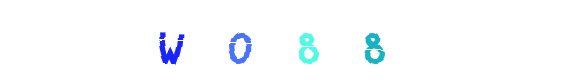8: (250, 0, 330, 80), (302, 0, 382, 80)
O: (189, 0, 269, 80)
W: (130, 0, 210, 80)
